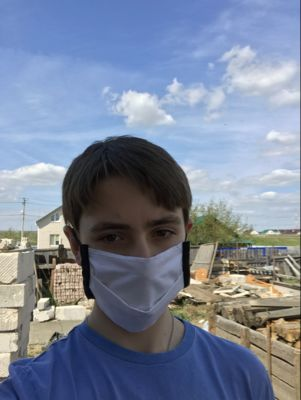with-mask: (47, 144, 209, 339)
